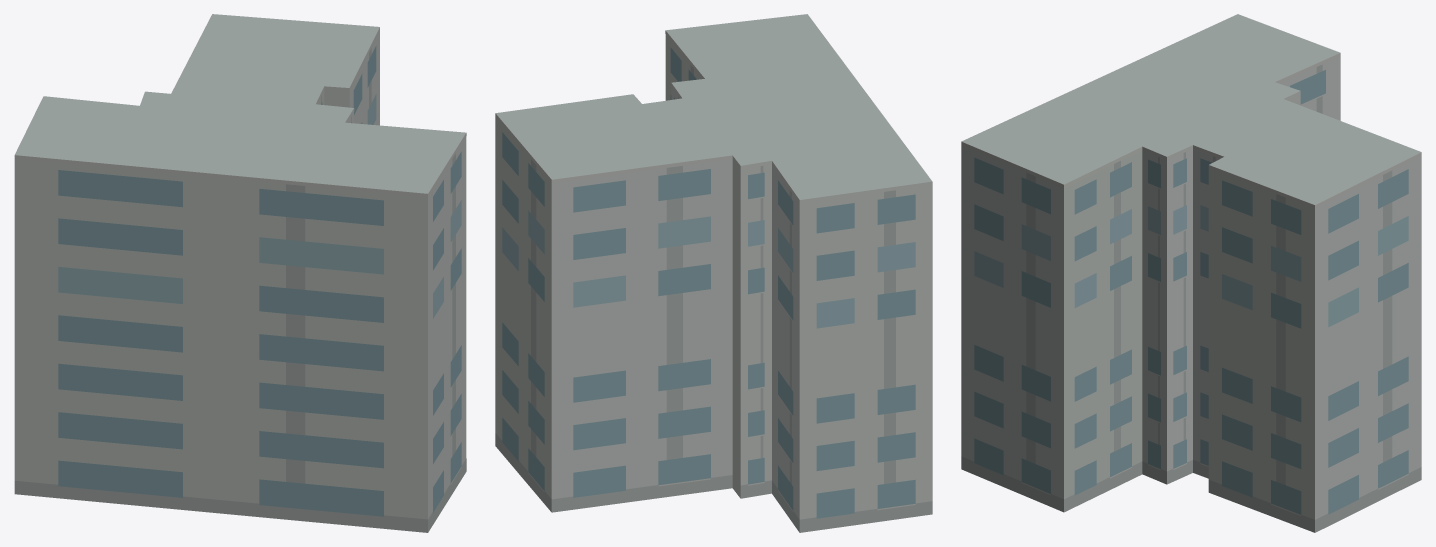
The model's file is survey-upis-32713150.glb.
3 renders of one model, left to right at view 1: azimuth 30°, elevation 25°; view 2: azimuth 150°, elevation 25°; view 3: azimuth 270°, elevation 25°, orthographic. The views are drawn at different scales.
Visible parts, largest first — view 1: survey-upis-32713150.tmp; view 2: survey-upis-32713150.tmp; view 3: survey-upis-32713150.tmp.
Boxes of the visible parts, <box> form: survey-upis-32713150.tmp: <box>14,14,466,532</box>; survey-upis-32713150.tmp: <box>495,14,932,532</box>; survey-upis-32713150.tmp: <box>961,14,1421,532</box>.
Size of the model in its own units: 28.03 by 22.4 by 28.53.
